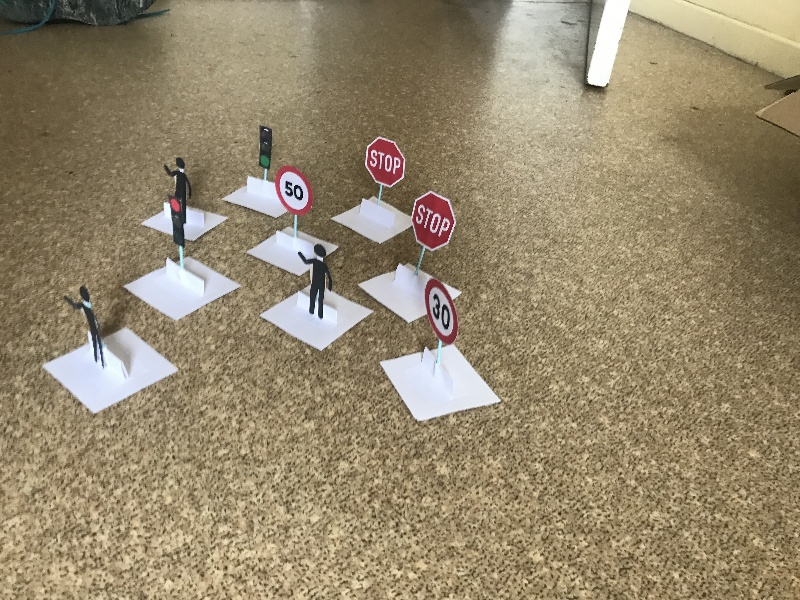green light: (252, 124, 273, 188)
person: (60, 285, 106, 371), (298, 243, 334, 320), (162, 156, 192, 213)
red light: (164, 198, 190, 276)
speed limit 30: (423, 280, 457, 385)
speed limit 50: (273, 167, 311, 241)
stop sign: (410, 187, 453, 282), (361, 135, 403, 221)
